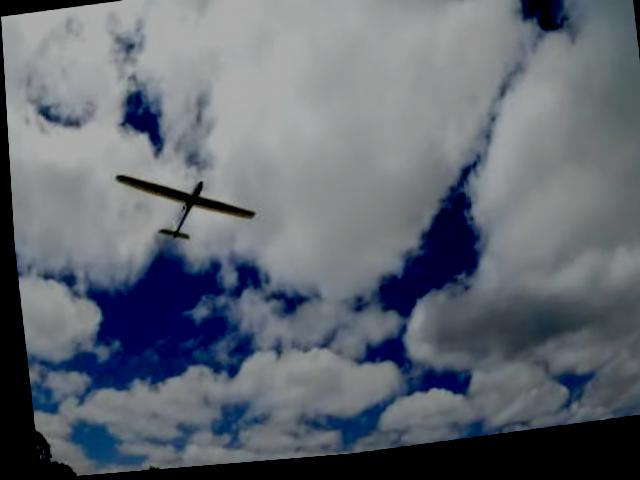uav: (108, 150, 265, 261)
